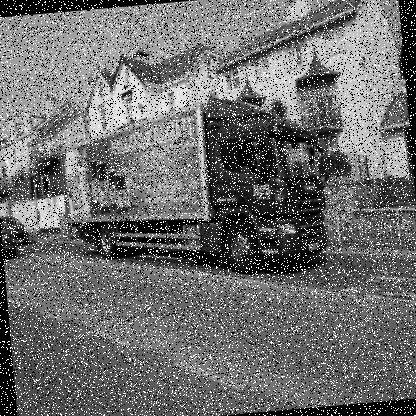Car: (0, 215, 31, 248), (0, 215, 16, 260)
